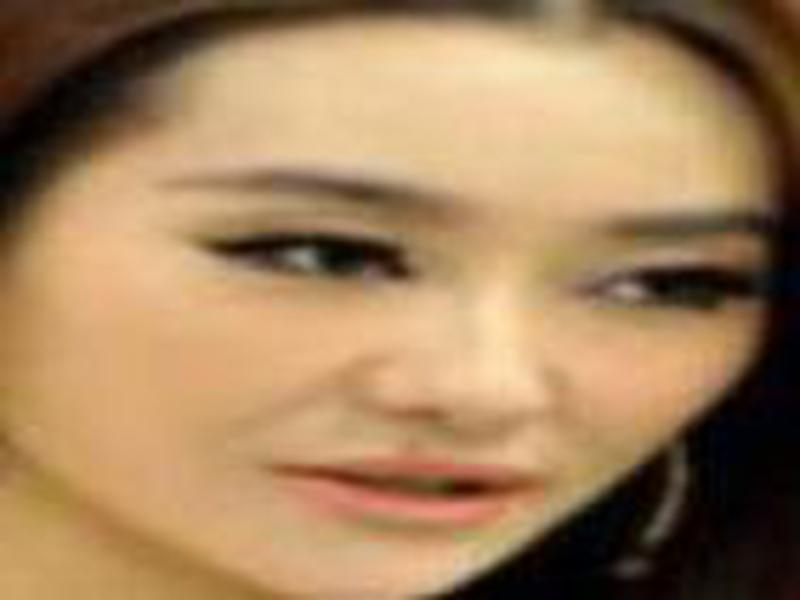without_mask: (6, 18, 768, 600)
